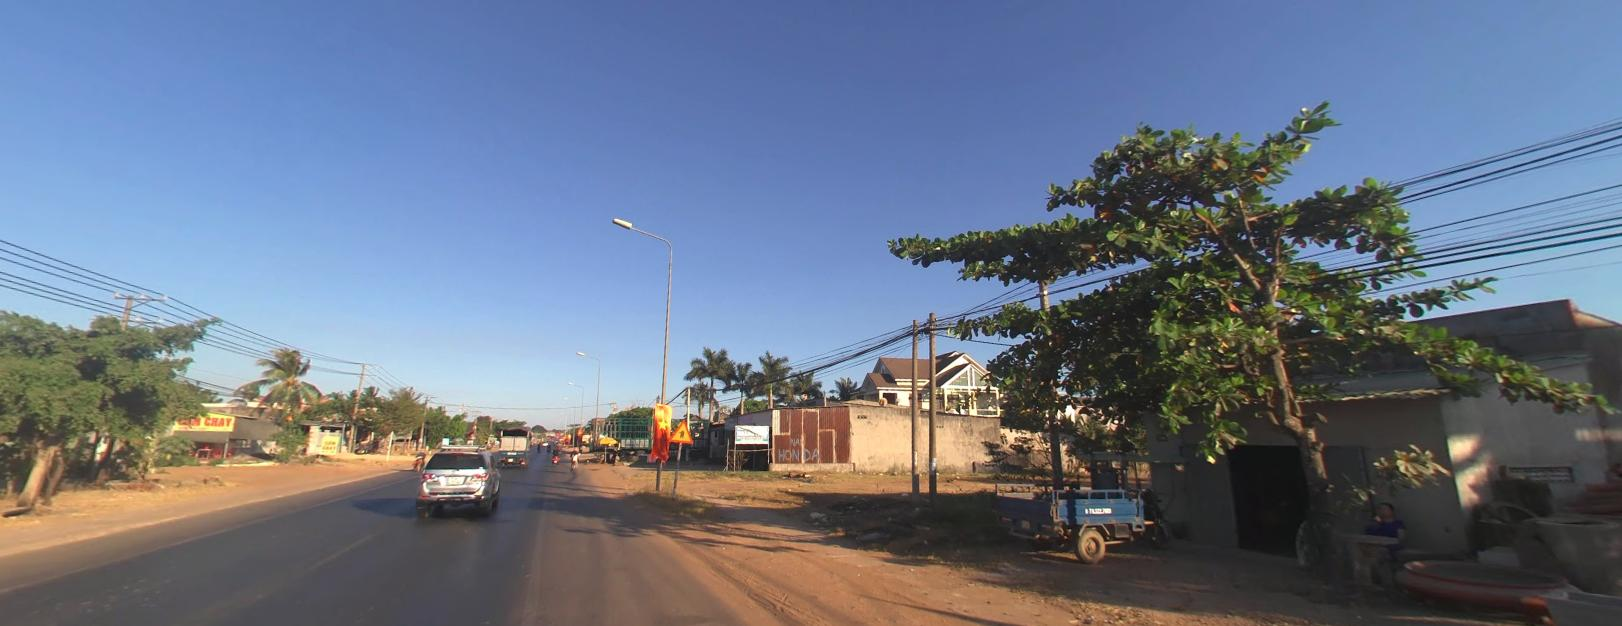Nguy hiem: (667, 417, 694, 440)
